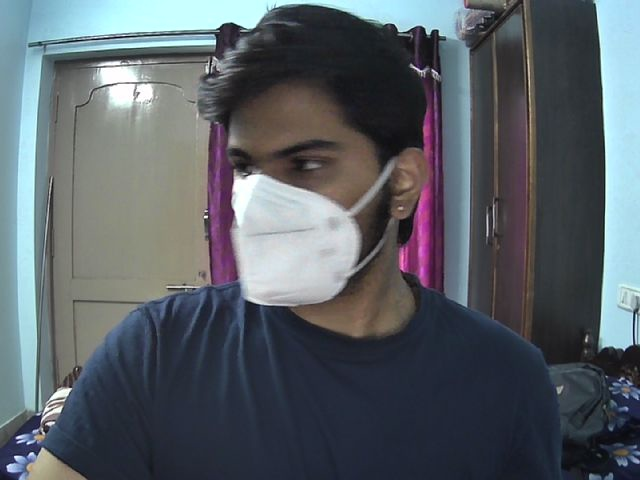Mask: (234, 180, 393, 308)
